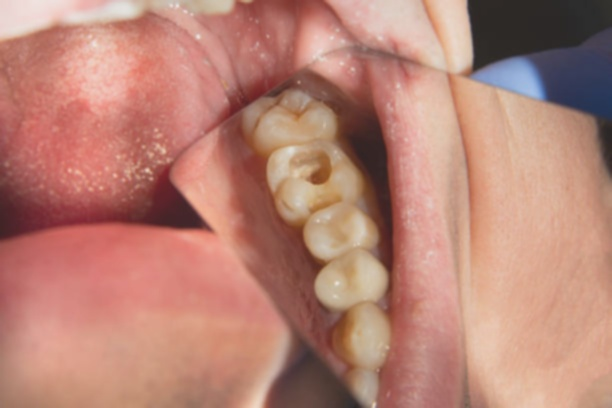Caries: (286, 148, 335, 189)
